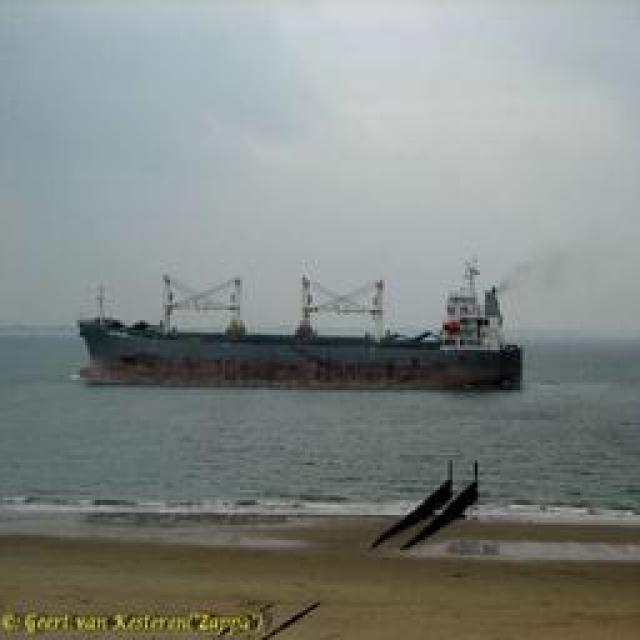CIV_Ship: (69, 270, 516, 390)
